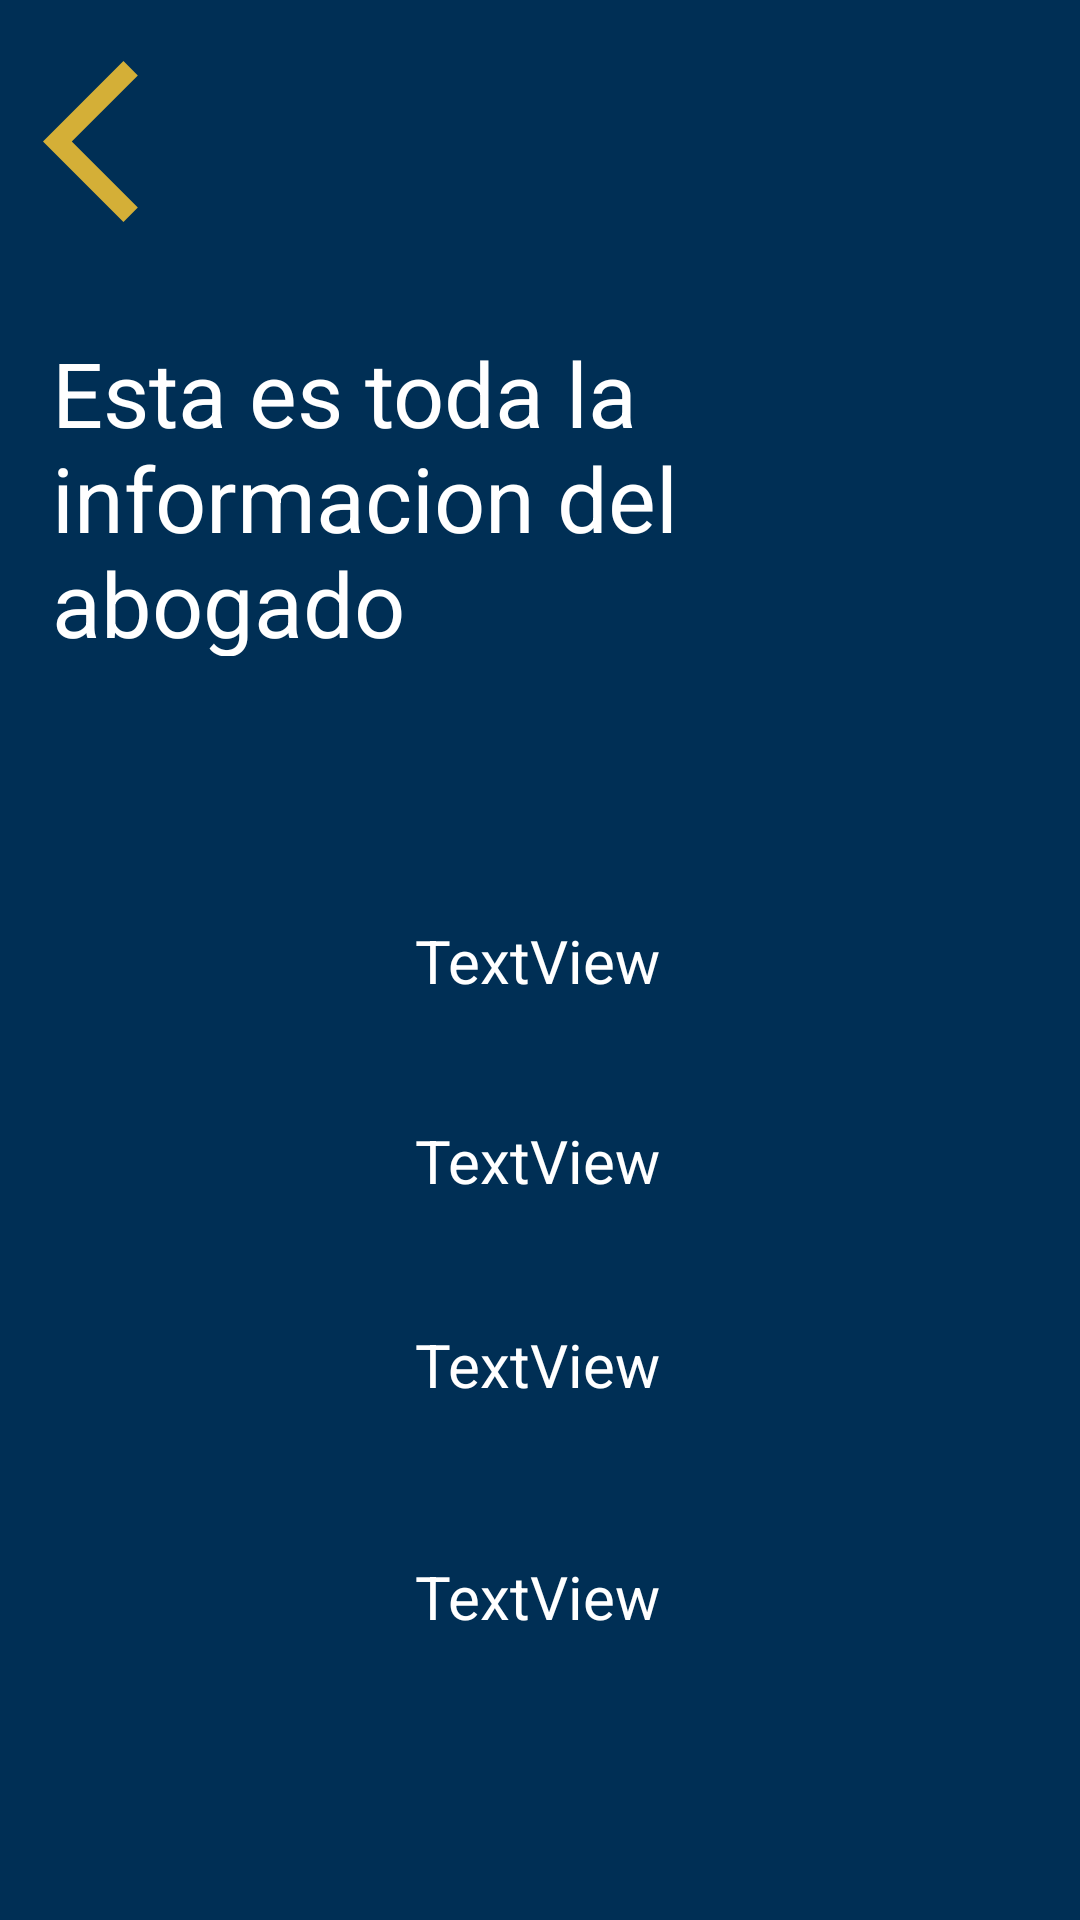

Icons on this 1080x1920 Android screen, each with the point to tap as [x,y]:
arrow back: [90,141]
